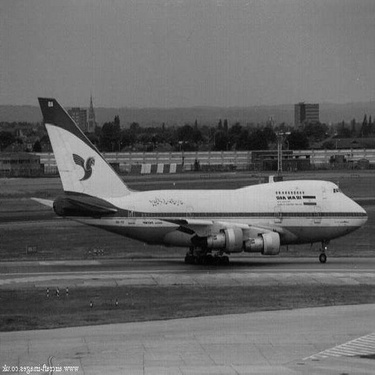airplane: (20, 89, 370, 270)
